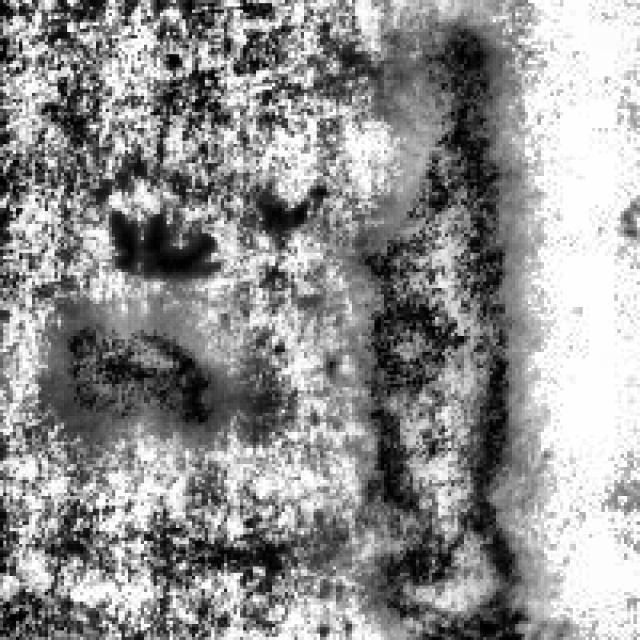Scratches: (346, 12, 522, 634), (48, 320, 221, 429)
